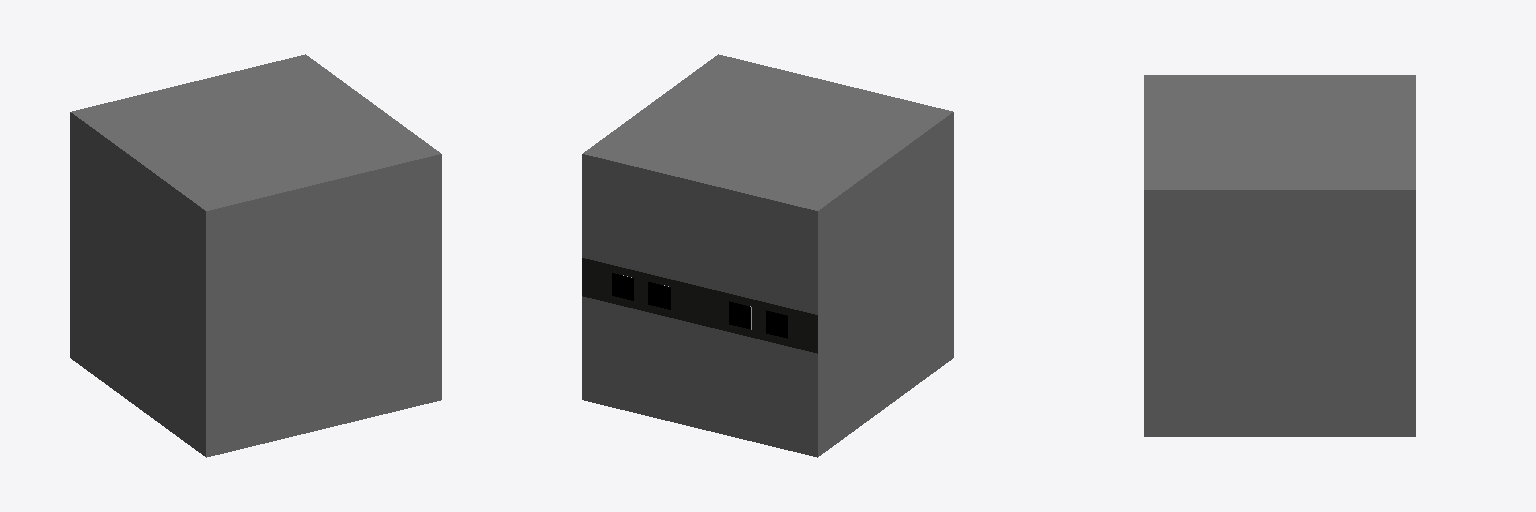
The picture shows the model from 3 angles: view 1: azimuth 30°, elevation 25°; view 2: azimuth 150°, elevation 25°; view 3: azimuth 270°, elevation 25°; orthographic projection.
Parts seen in each view (by area): view 1: generalCube; view 2: generalCube, off2, off3; view 3: generalCube.
Boxes of the visible parts, x1,y1,x2,y2 form: generalCube: [70, 54, 441, 457]; generalCube: [582, 54, 953, 457]; off2: [729, 301, 751, 329]; off3: [648, 282, 670, 309]; generalCube: [1144, 75, 1415, 436].
Bounding box in the file's own units: 1 × 1 × 1.
2 materials, 1 textured.